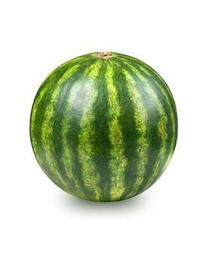watermelon: (28, 51, 178, 202)
